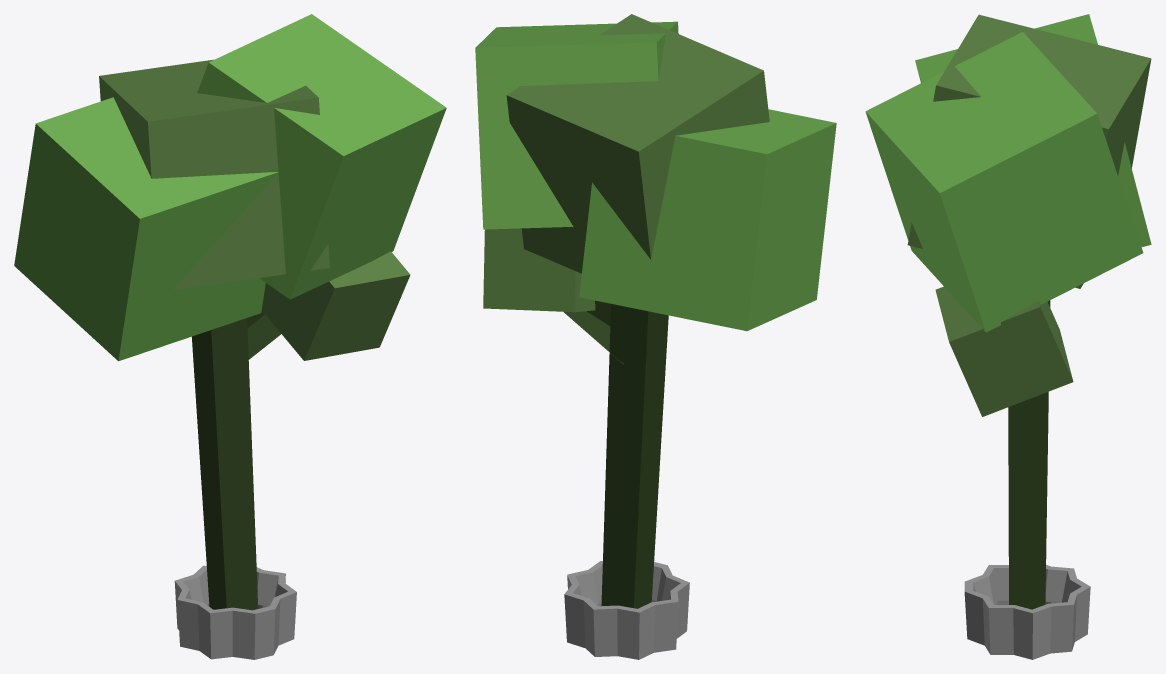
The model's file is tree2.glb.
3 renders of one model, left to right at view 1: azimuth 30°, elevation 25°; view 2: azimuth 150°, elevation 25°; view 3: azimuth 270°, elevation 25°, orthographic. The views are drawn at different scales.
Visible parts, largest first — view 1: Circle; view 2: Circle; view 3: Circle.
Boxes of the visible parts, x1,y1,x2,y2 form: Circle: (14, 14, 446, 659); Circle: (475, 14, 836, 659); Circle: (865, 14, 1151, 659).
Size of the model in its own units: 6.21 by 10.21 by 4.5.
